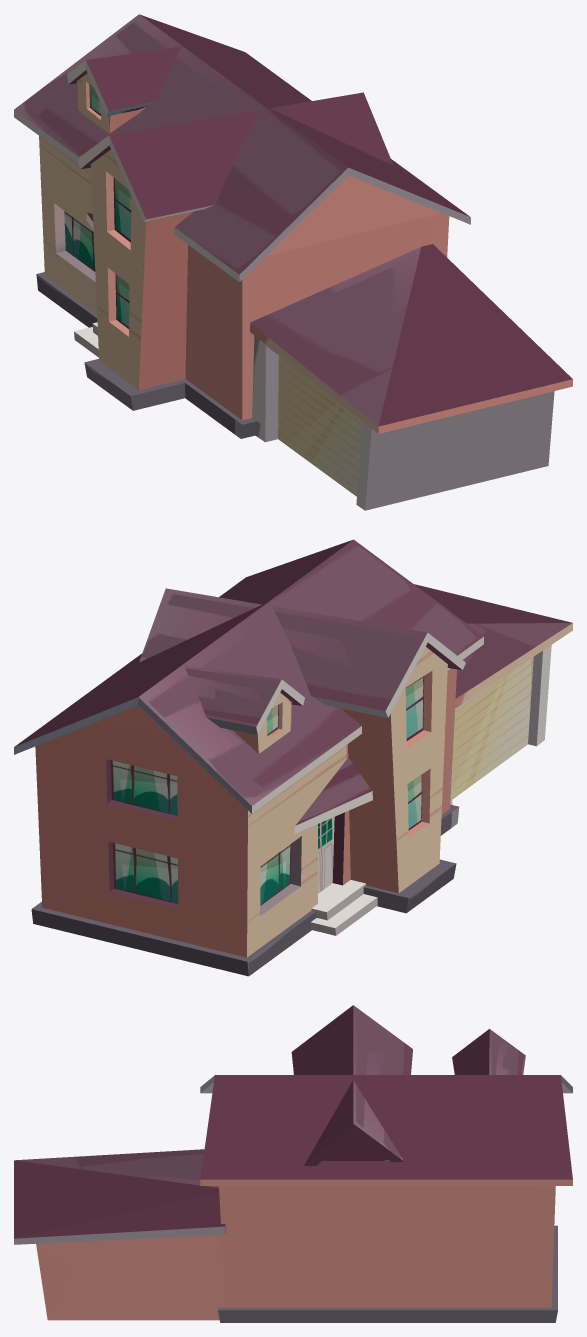
The model's file is Casa.fbx.
The picture shows the model from 3 angles, top to bottom: view 1: azimuth 30°, elevation 25°; view 2: azimuth 150°, elevation 25°; view 3: azimuth 270°, elevation 25°; orthographic projection. The views are drawn at different scales.
Visible parts, largest first — view 1: Plane; view 2: Plane; view 3: Plane.
Part boxes in pixels (x1,y1,x2,y2): Plane: (14,14,572,510); Plane: (14,539,572,976); Plane: (14,1005,572,1322).
Size of the model in its own units: 1120 by 1012 by 2409.
Materials: 1 (1 with a texture image).
